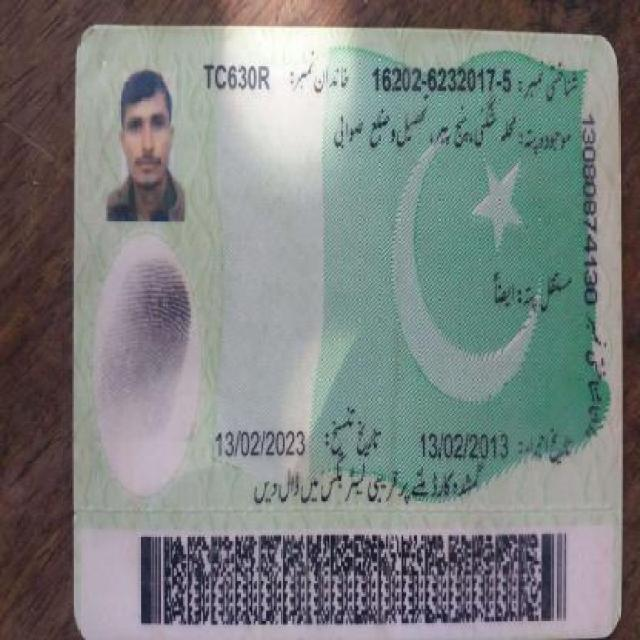Back: (70, 17, 616, 629)
